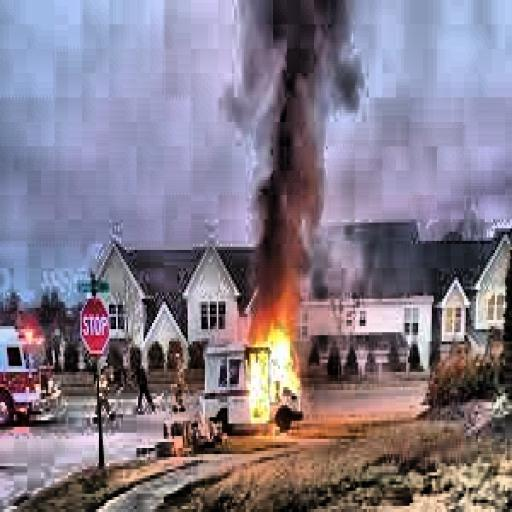fire: (246, 302, 302, 418)
